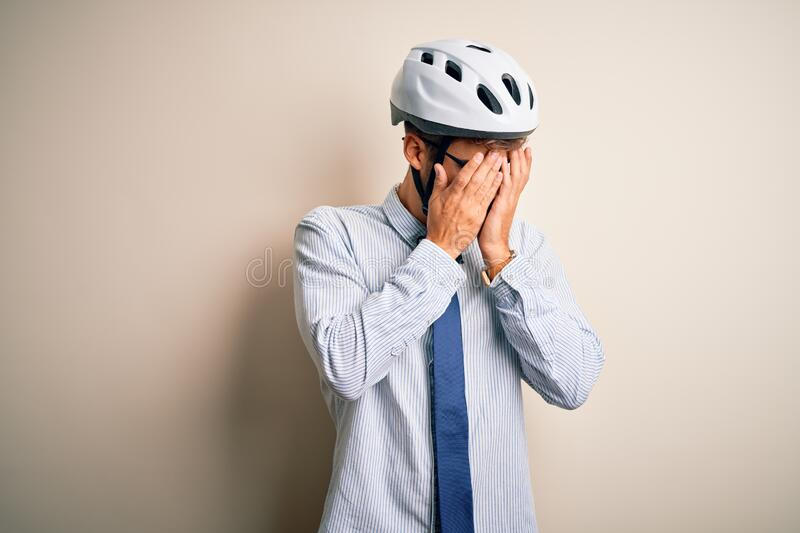helmet: (391, 38, 535, 218)
